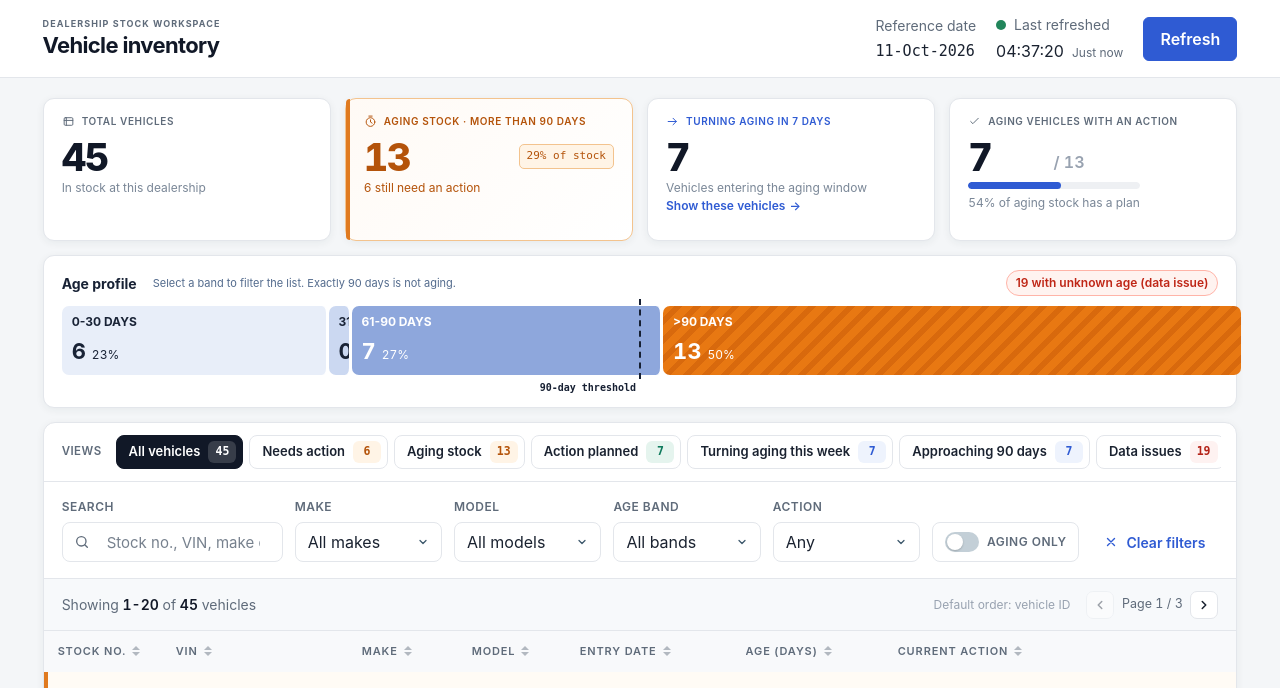
App › navigates pages from the compact page navigator above the table
Expected: the text "Page 1 / 3" is shown, [1120,595,1184,614]
Expected: the button named "Previous page" is disabled, [1086,590,1114,618]
Click the button named "Next page". click: click(1204, 604)
box: [1190,590,1218,618]
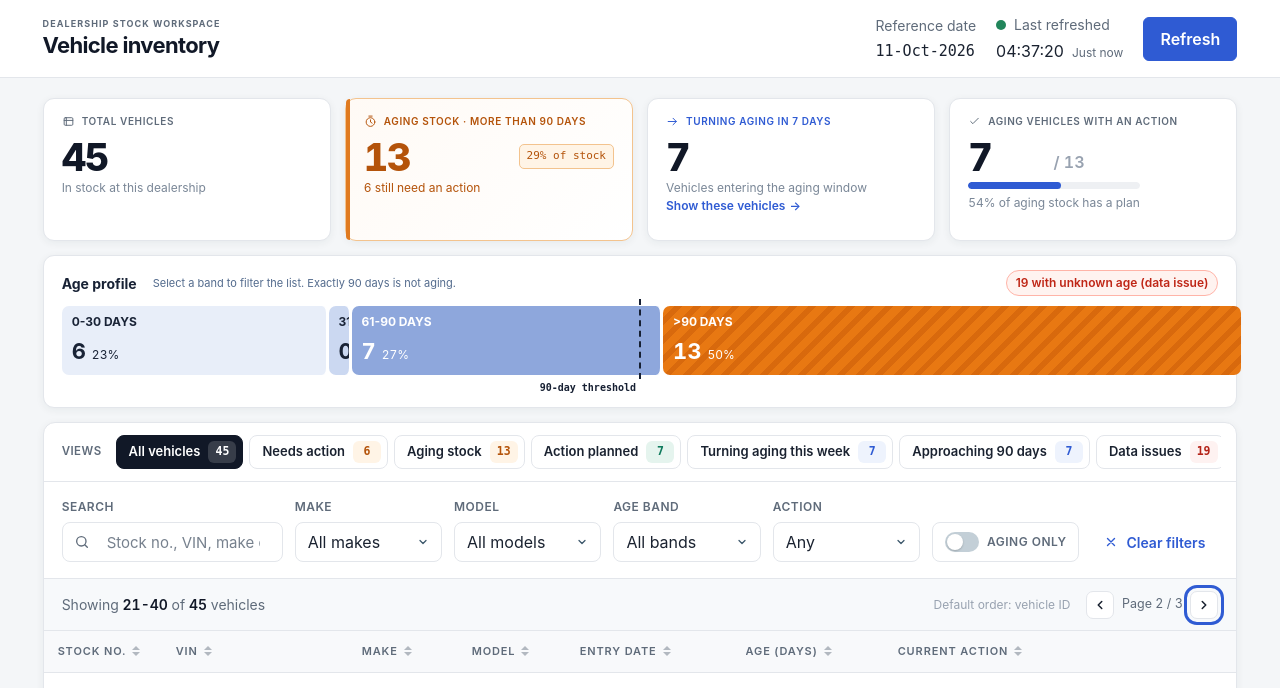
Expected: the text "Page 2 / 3" is shown, [1120,595,1184,614]
